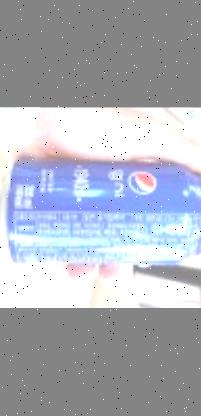Can: (0, 163, 201, 269)
